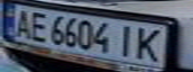0: (75, 18, 96, 52)
4: (90, 20, 115, 54)
6: (45, 13, 66, 46), (60, 16, 81, 48)
A: (9, 7, 36, 38)
E: (24, 10, 51, 42)
I: (112, 22, 139, 58)
K: (133, 26, 166, 63)
